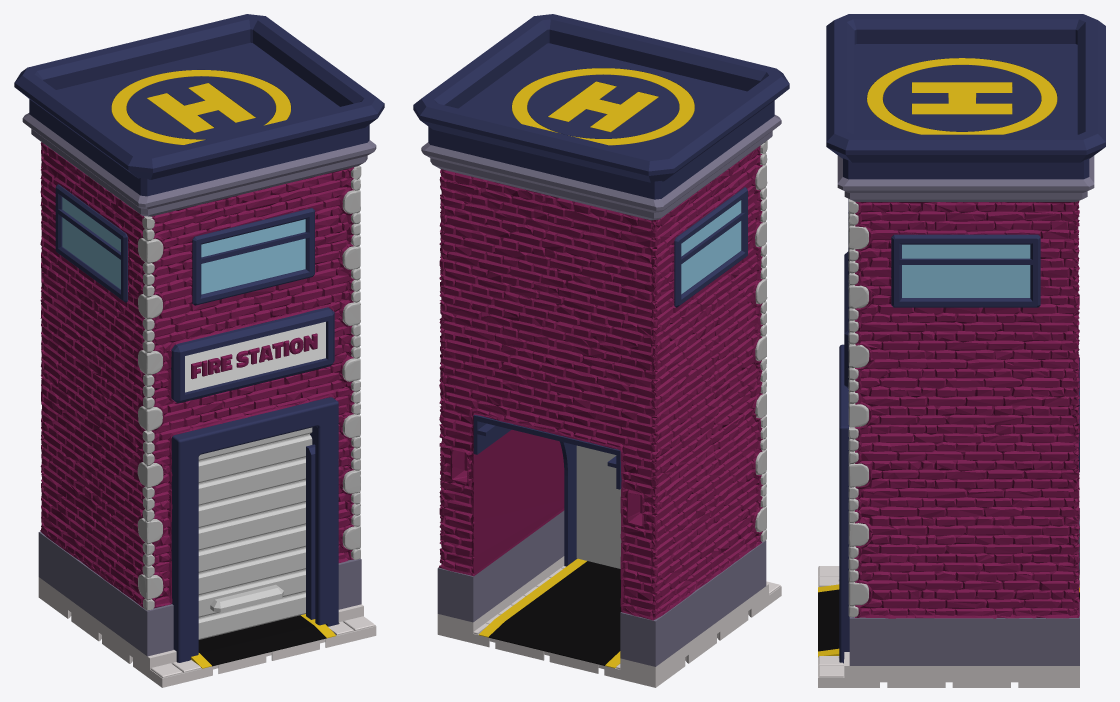
Rendered from fire print .glb.
3 views of the same model, side by side, from view 1: azimuth 30°, elevation 25°; view 2: azimuth 150°, elevation 25°; view 3: azimuth 270°, elevation 25° (orthographic). The views are drawn at different scales.
Parts seen in each view (by area): view 1: main red 1, frames 1, door, frames 3, corner, sockel 2, sockel 3, placement_plate, LIGHT_V_UP, frames 8, LIGHT_H_WIN 3, frames 5 (+5 smaller); view 2: main red 1, frames 1, sockel 2, road, sockel 3, placement_plate, LIGHT_V_UP, door, frames 3, corner, frames 6, LIGHT_H_WIN 1; view 3: main red 1, frames 1, sockel 2, LIGHT_V_UP, placement_plate, LIGHT_H_WIN 2, sockel 3, corner, frames 7, frames 3, road, frames 8.
Boxes of the visible parts, bbox=[...] form: main red 1: bbox=[40, 142, 354, 608]; frames 1: bbox=[14, 14, 384, 196]; door: bbox=[198, 427, 312, 639]; frames 3: bbox=[171, 397, 338, 662]; corner: bbox=[137, 165, 361, 610]; sockel 2: bbox=[38, 531, 361, 656]; sockel 3: bbox=[22, 113, 376, 216]; placement_plate: bbox=[38, 577, 376, 687]; LIGHT_V_UP: bbox=[111, 70, 336, 668]; frames 8: bbox=[171, 307, 334, 403]; LIGHT_H_WIN 3: bbox=[201, 219, 305, 294]; frames 5: bbox=[192, 208, 314, 305]; main red 1: bbox=[438, 146, 763, 620]; frames 1: bbox=[413, 14, 789, 199]; sockel 2: bbox=[437, 510, 766, 666]; road: bbox=[488, 561, 621, 665]; sockel 3: bbox=[421, 115, 781, 220]; placement_plate: bbox=[437, 556, 781, 687]; LIGHT_V_UP: bbox=[478, 68, 694, 668]; door: bbox=[576, 445, 621, 568]; frames 3: bbox=[473, 415, 621, 566]; corner: bbox=[755, 140, 767, 541]; frames 6: bbox=[674, 187, 747, 307]; LIGHT_H_WIN 1: bbox=[681, 200, 741, 294]; main red 1: bbox=[854, 201, 1079, 618]; frames 1: bbox=[826, 14, 1105, 179]; sockel 2: bbox=[849, 508, 1079, 665]; LIGHT_V_UP: bbox=[818, 58, 1079, 657]; placement_plate: bbox=[818, 566, 1079, 687]; LIGHT_H_WIN 2: bbox=[902, 244, 1030, 297]; sockel 3: bbox=[837, 155, 1094, 201]; corner: bbox=[848, 199, 869, 617]; frames 7: bbox=[891, 234, 1040, 307]; frames 3: bbox=[839, 344, 1079, 663]; road: bbox=[818, 589, 1079, 651]; frames 8: bbox=[844, 251, 849, 388].
Bounding box in the file's own units: 120 × 234 × 110.
